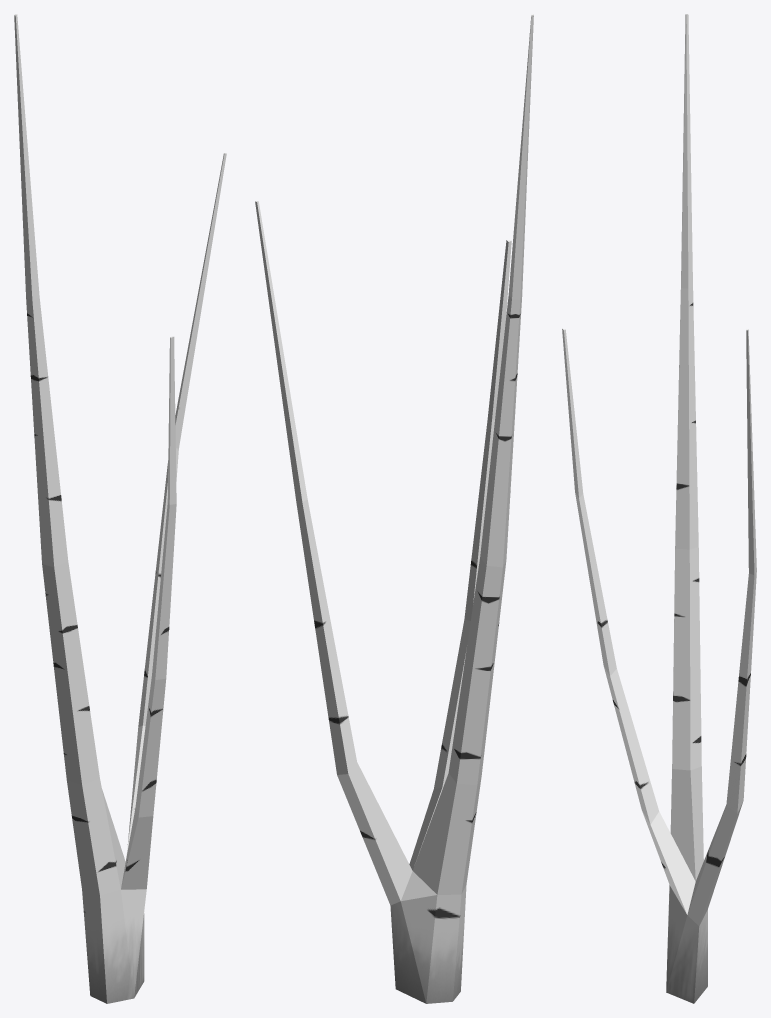
File: Birch_Tree_NoLeaves_m_08_LOD.fbx
3 renders of one model, left to right at view 1: azimuth 30°, elevation 25°; view 2: azimuth 150°, elevation 25°; view 3: azimuth 270°, elevation 25°, orthographic. The views are drawn at different scales.
Visible parts, largest first — view 1: Birch_Tree_NoLeaves_m_08_LOD0; view 2: Birch_Tree_NoLeaves_m_08_LOD0; view 3: Birch_Tree_NoLeaves_m_08_LOD0.
Part boxes in pixels (<box>): Birch_Tree_NoLeaves_m_08_LOD0: <box>14,14,226,1003</box>; Birch_Tree_NoLeaves_m_08_LOD0: <box>255,14,533,1003</box>; Birch_Tree_NoLeaves_m_08_LOD0: <box>562,14,756,1003</box>.
Size of what is drawn, in the model's own units: 161 by 631 by 120.
